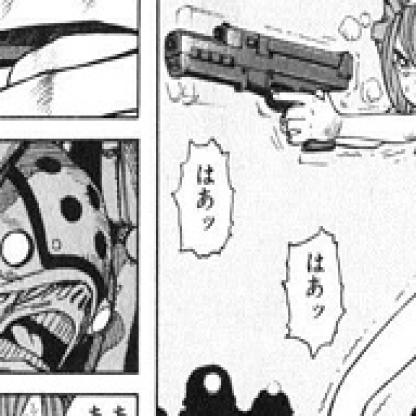gun: (160, 0, 362, 165)
